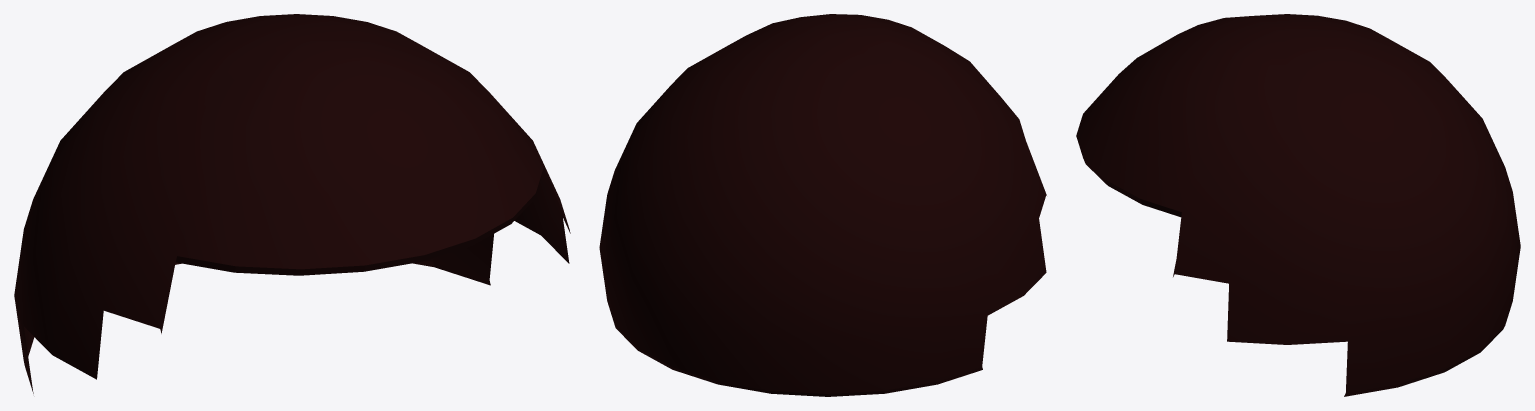
The model's file is Basic_Dude_Hair 1.fbx.
3 renders of one model, left to right at view 1: azimuth 30°, elevation 25°; view 2: azimuth 150°, elevation 25°; view 3: azimuth 270°, elevation 25°, orthographic. The views are drawn at different scales.
Parts seen in each view (by area): view 1: Simple_Hair; view 2: Simple_Hair; view 3: Simple_Hair.
Boxes of the visible parts, x1,y1,x2,y2 form: Simple_Hair: [14, 14, 570, 393]; Simple_Hair: [599, 14, 1046, 396]; Simple_Hair: [1076, 14, 1520, 396].
Bounding box in the file's own units: 20.58 × 13.31 × 19.61.
